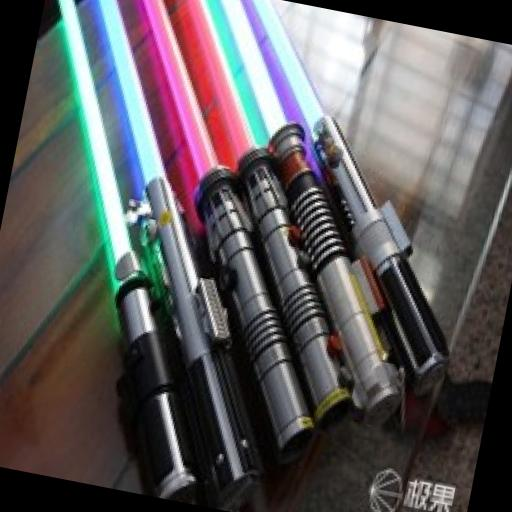lightsaber: (0, 0, 351, 500), (48, 0, 392, 452), (0, 0, 289, 504), (140, 0, 471, 426), (183, 0, 510, 383)
sith saber: (100, 0, 422, 427)
